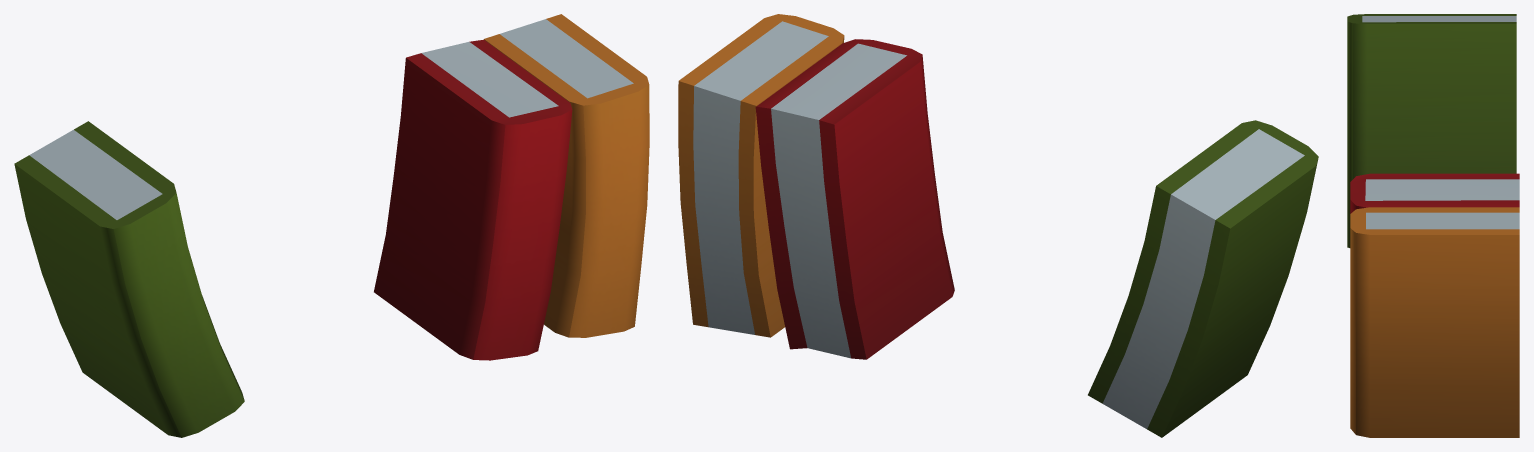
Rendered from books2_LOD_setup.fbx.
The picture shows the model from 3 angles, left to right: view 1: azimuth 30°, elevation 25°; view 2: azimuth 150°, elevation 25°; view 3: azimuth 270°, elevation 25°; orthographic projection. The views are drawn at different scales.
Parts seen in each view (by area): view 1: books2_LOD0; view 2: books2_LOD0; view 3: books2_LOD0.
Boxes of the visible parts, x1=… form: books2_LOD0: x1=14, y1=14, x2=649, y2=437; books2_LOD0: x1=678, y1=14, x2=1318, y2=437; books2_LOD0: x1=1347, y1=14, x2=1519, y2=437.
Size of what is drawn, in the model's own units: 86 by 37.51 by 26.79.
